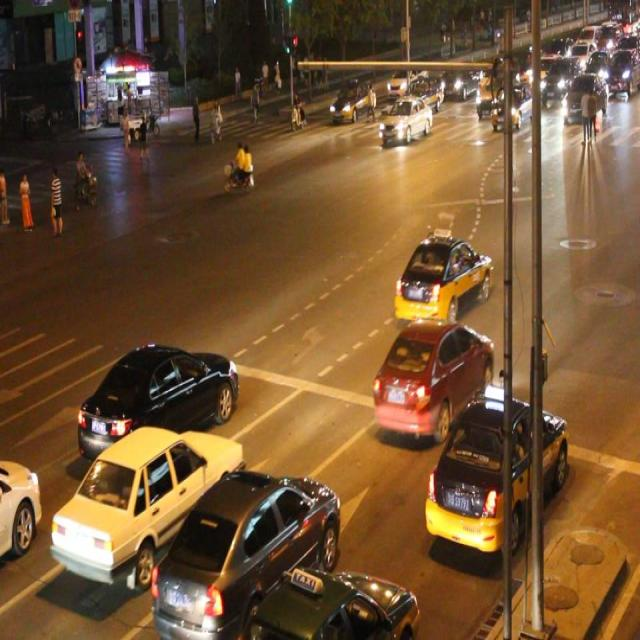car: (149, 462, 341, 640), (52, 423, 243, 587), (421, 392, 570, 556), (77, 339, 238, 463), (372, 317, 494, 439), (239, 562, 419, 640), (393, 232, 492, 324), (0, 454, 42, 559), (378, 94, 431, 147)
